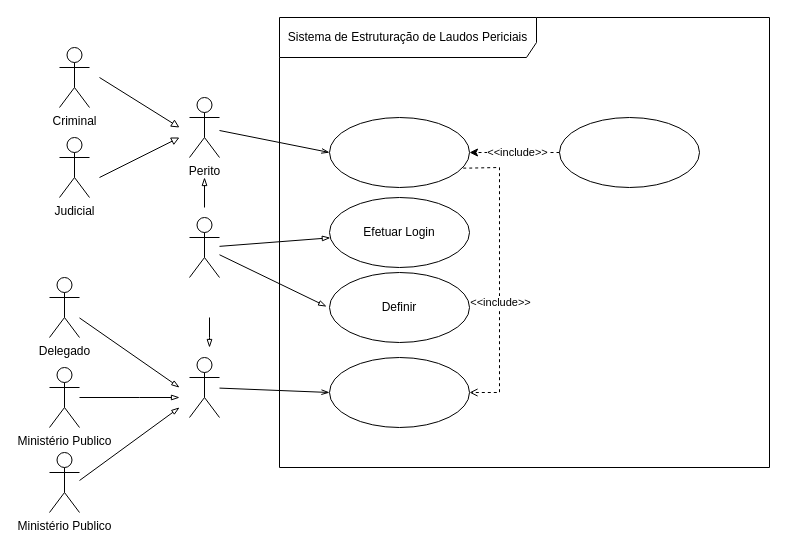
Some shapes in this 787 by 551 pixel diagram are drawn without their labels. Here are the shapes that lost their labels. From the top down, the centre of each, then its label:
[399,152]: Manter Laudos Periciais
[629,152]: Encaminhar Laudos
[204,247]: Administrador de Instituição
[204,387]: Solicitantes
[399,392]: Solicitar Perícias
